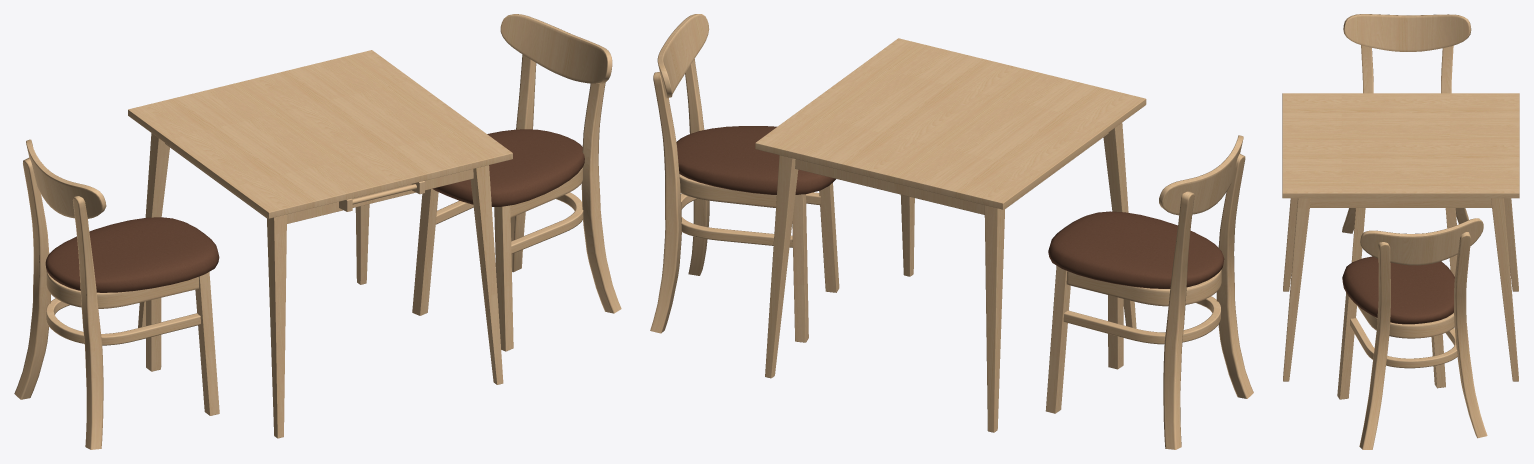
The picture shows the model from 3 angles, left to right: view 1: azimuth 30°, elevation 25°; view 2: azimuth 150°, elevation 25°; view 3: azimuth 270°, elevation 25°; orthographic projection. The views are drawn at different scales.
Visible parts, largest first — view 1: tableset_02; view 2: tableset_02; view 3: tableset_02.
Part boxes in pixels (x1,y1,x2,y2): tableset_02: [14, 14, 621, 449]; tableset_02: [650, 14, 1253, 449]; tableset_02: [1282, 14, 1519, 449].
Bounding box in the file's own units: 180 × 80.77 × 80.
Materials: 1 (1 with a texture image).
